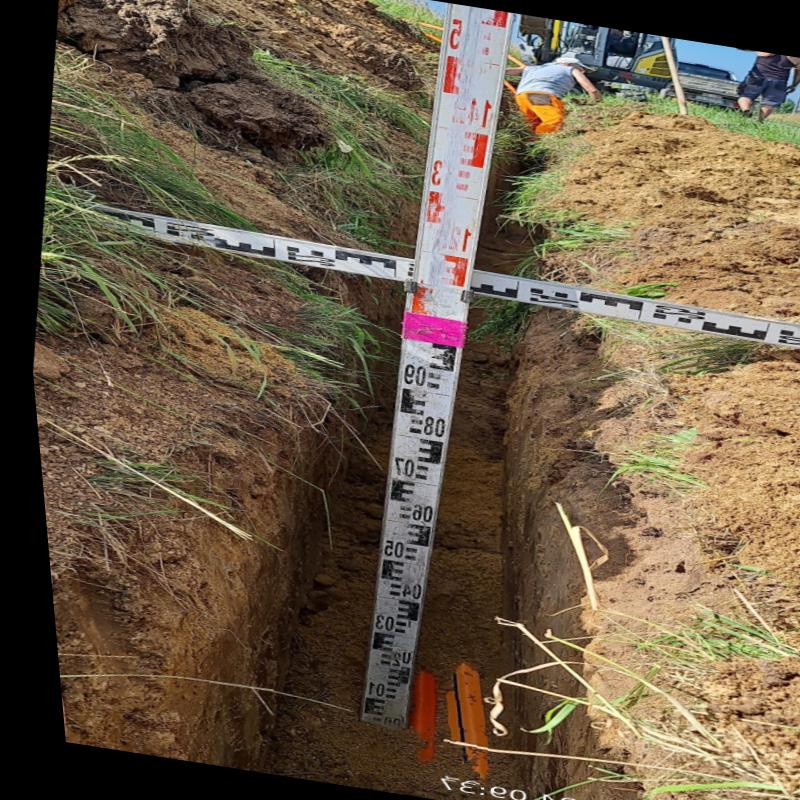Orang-Speednetrohrchen: (381, 659, 480, 777)
